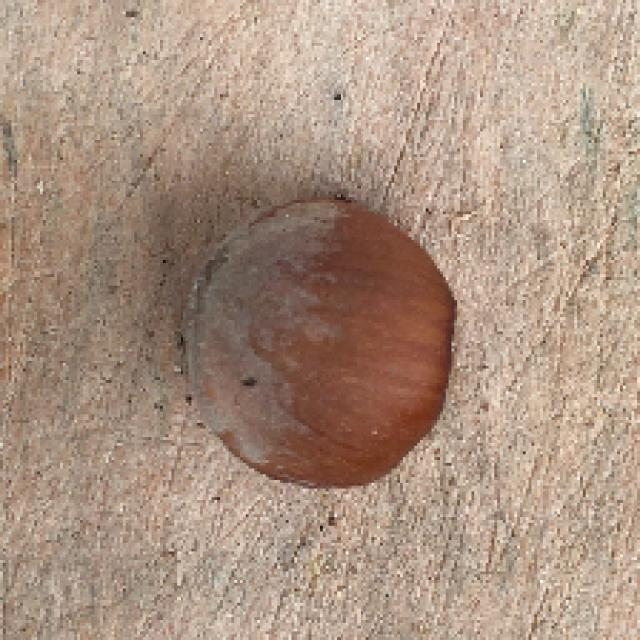qualityHazelnut: (179, 189, 467, 495)
